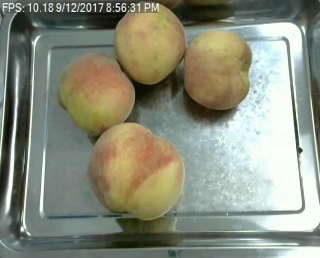Peach: (88, 122, 183, 219), (56, 51, 136, 135), (112, 2, 182, 84), (183, 29, 253, 110)
